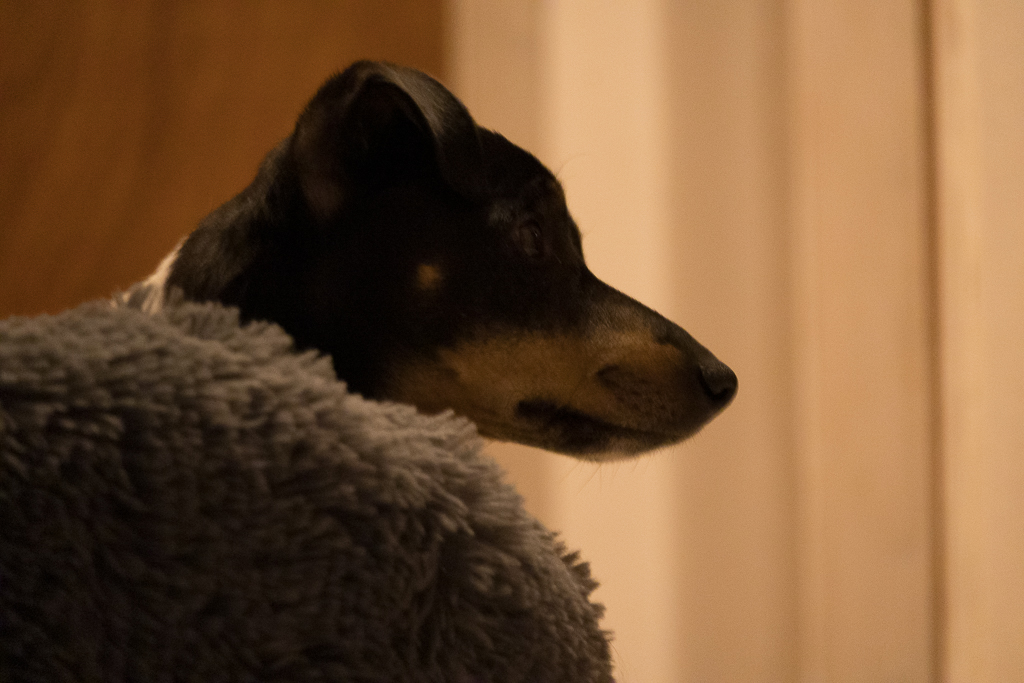Dog: (64, 49, 774, 475)
